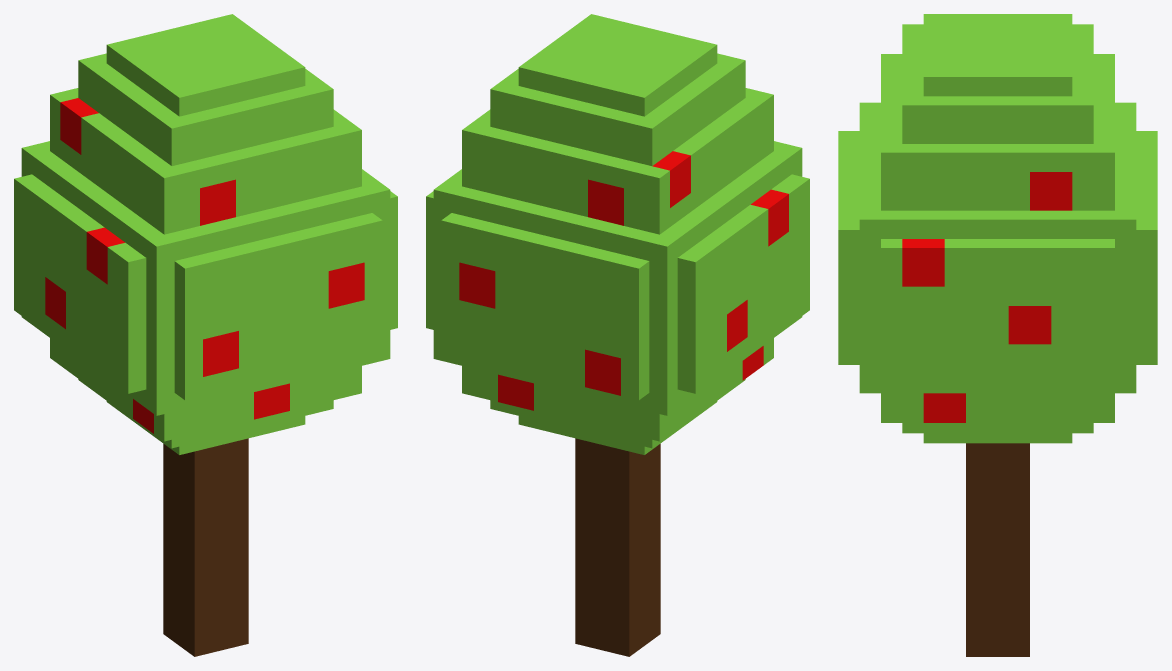
The model's file is Apple_Tree (Stage 6).obj.
3 views of the same model, side by side, from view 1: azimuth 30°, elevation 25°; view 2: azimuth 150°, elevation 25°; view 3: azimuth 270°, elevation 25° (orthographic). The views are drawn at different scales.
Bounding box in the file's own units: 1.5 × 3.1 × 1.5.
Materials: 1 (1 with a texture image).
